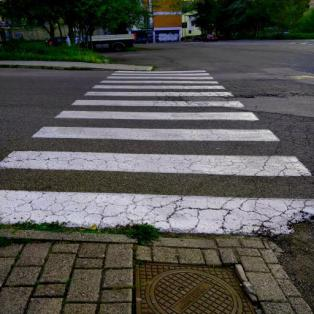Paso de Cebra: (28, 108, 288, 144), (87, 78, 231, 92)
